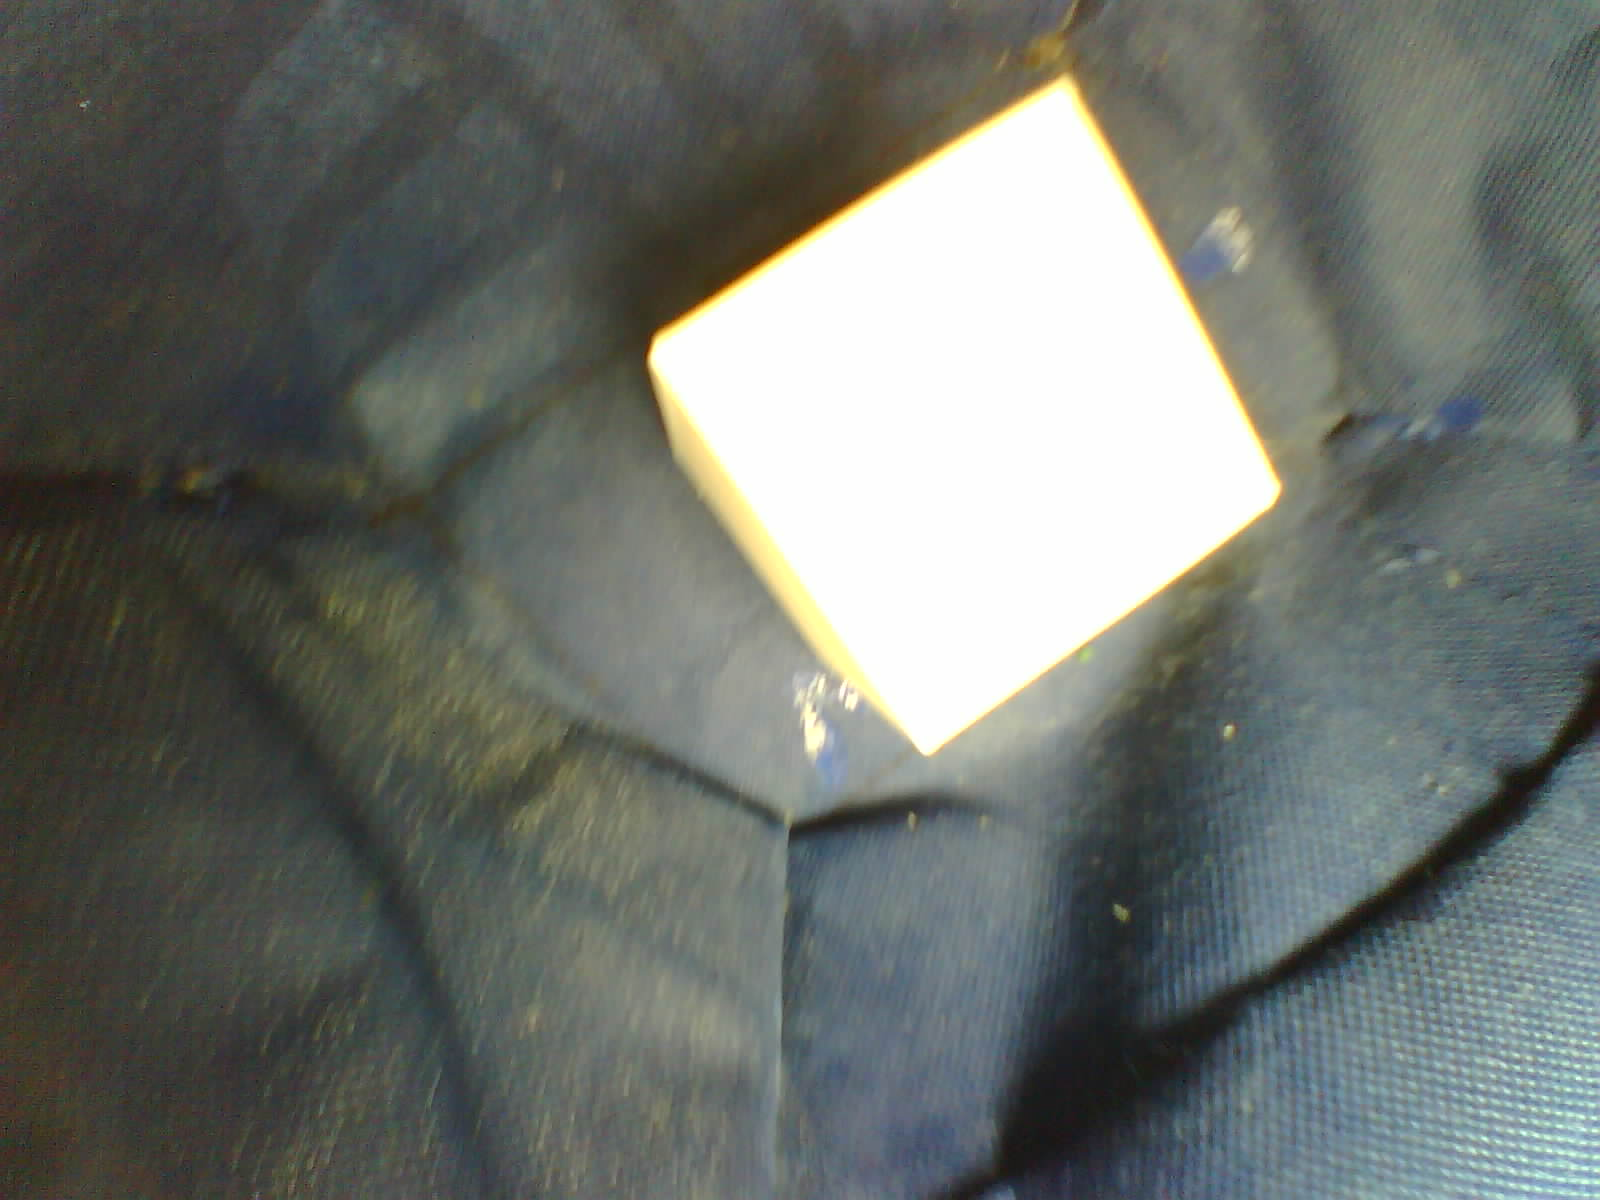cube-hard: (621, 62, 1284, 783)
